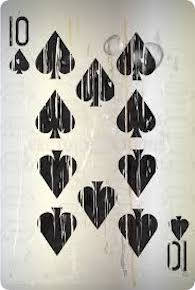TenOfSpades: (2, 3, 193, 290)
